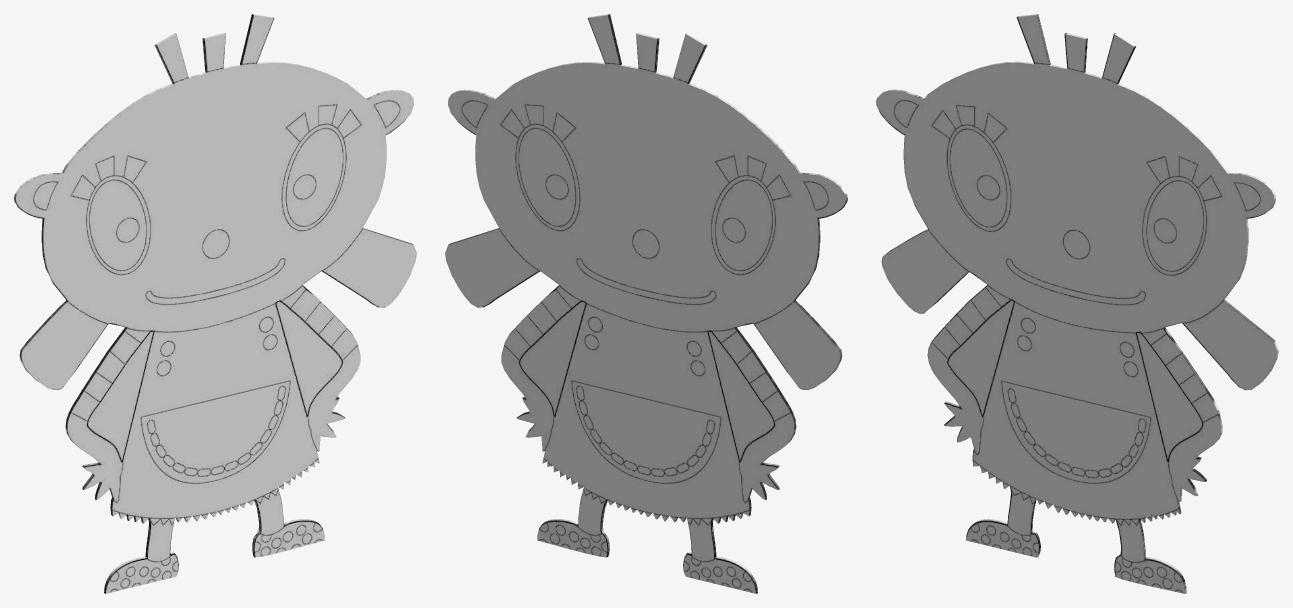
The model's file is 41_nagle.fbx.
The picture shows the model from 3 angles, left to right: view 1: azimuth 30°, elevation 25°; view 2: azimuth 150°, elevation 25°; view 3: azimuth 330°, elevation 25°; orthographic projection.
Parts seen in each view (by area): view 1: planarTrimmedSurface36; view 2: planarTrimmedSurface36; view 3: planarTrimmedSurface36.
Part boxes in pixels (bbox=[...]): planarTrimmedSurface36: bbox=[14, 14, 416, 593]; planarTrimmedSurface36: bbox=[445, 14, 847, 593]; planarTrimmedSurface36: bbox=[876, 14, 1278, 593].
Bounding box in the file's own units: 24.45 × 31.66 × 0.1538.
Materials: 1 (1 with a texture image).
